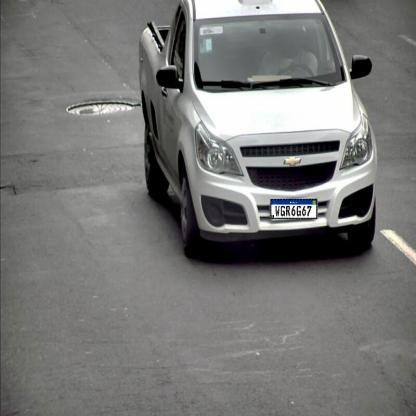PlacaM: (271, 199, 318, 219)
